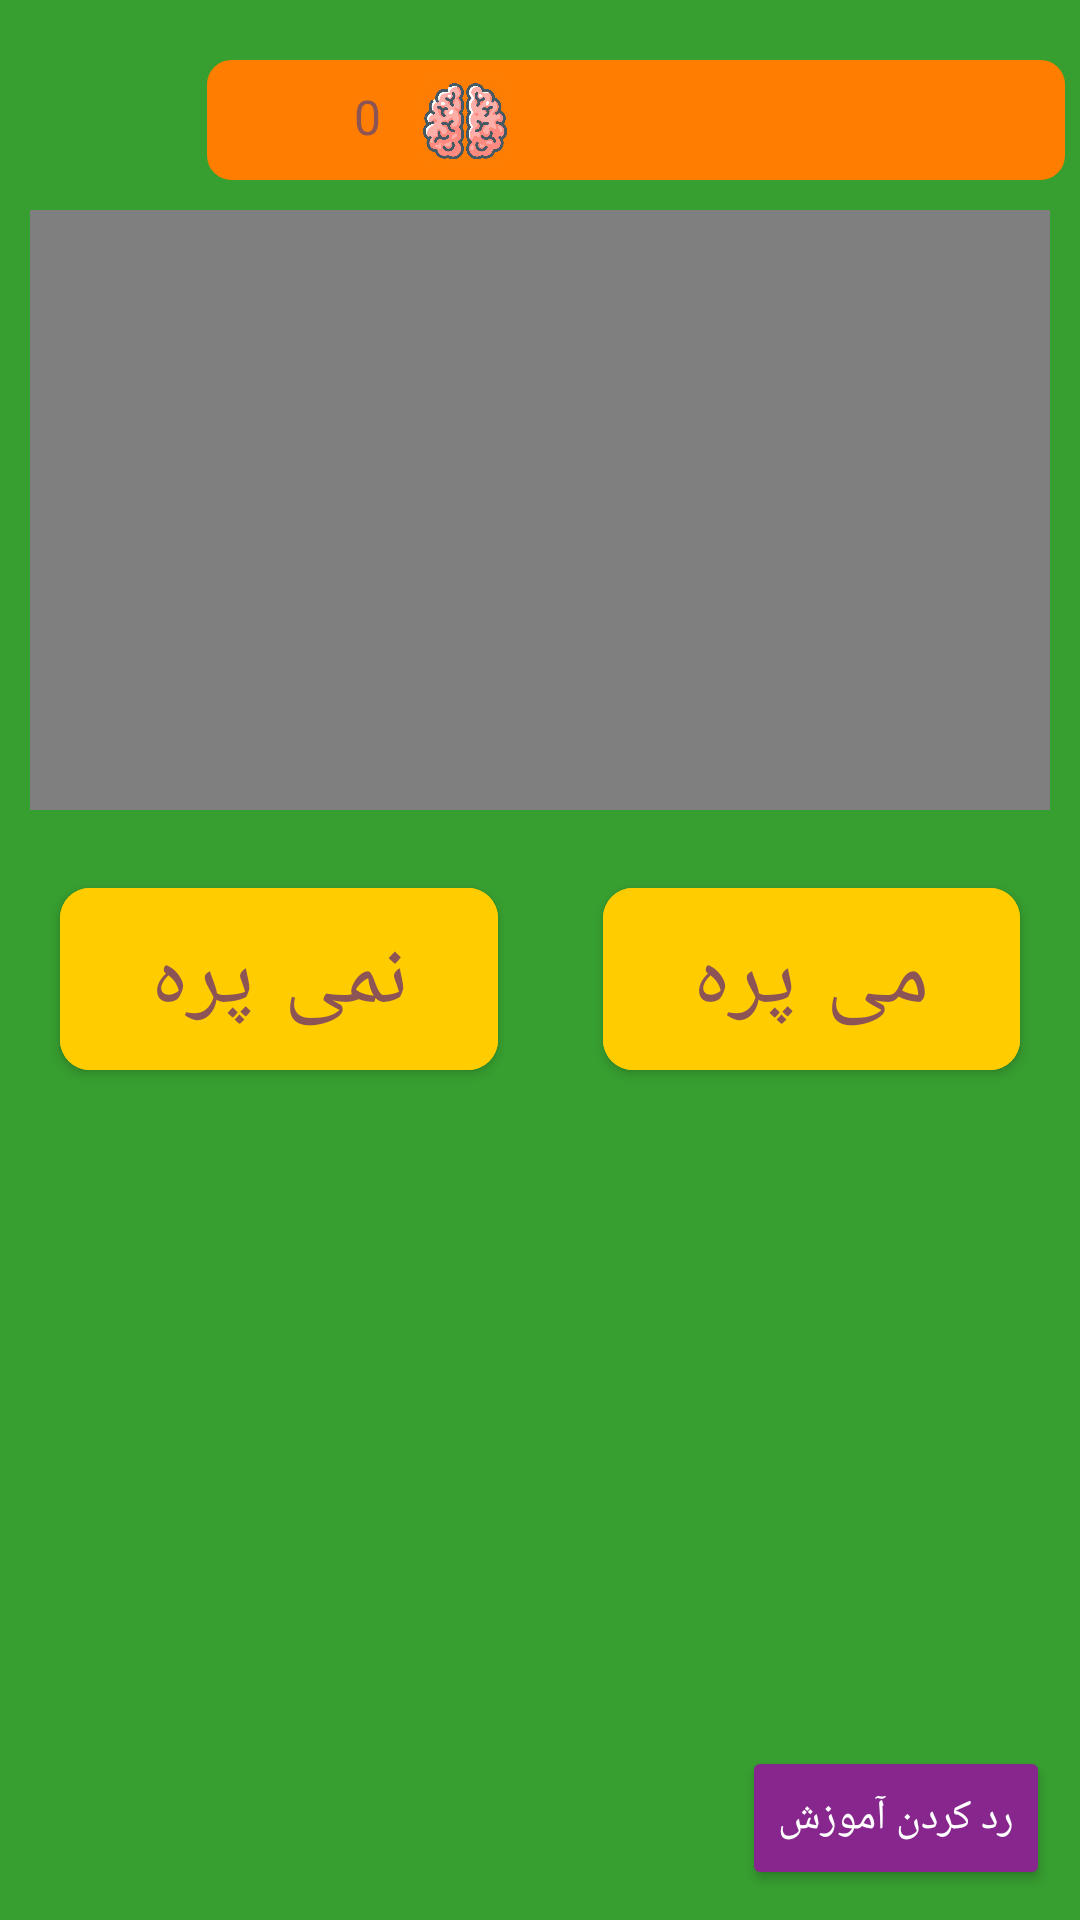

Named icons in this screenshot (1080 × 1920) and their bounding boxes, [x1,y1,x2,y2]:
brain: [423,83,507,159]
